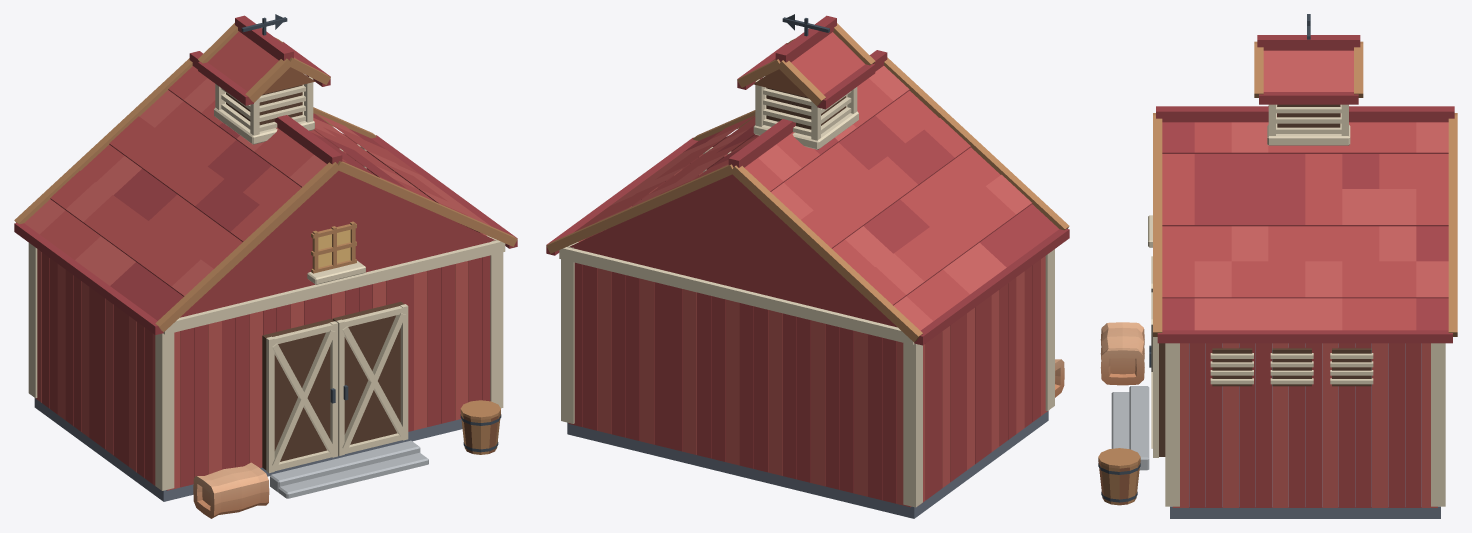
Rendered from barn_big.glb.
The picture shows the model from 3 angles, left to right: view 1: azimuth 30°, elevation 25°; view 2: azimuth 150°, elevation 25°; view 3: azimuth 270°, elevation 25°; orthographic projection. The views are drawn at different scales.
Visible parts, largest first — view 1: barn_big_建筑共用调色板.006, barn_big_graveyard-kit 调色板; view 2: barn_big_建筑共用调色板.006; view 3: barn_big_建筑共用调色板.006, barn_big_graveyard-kit 调色板.
Part boxes in pixels (x1,y1,x2,y2): barn_big_建筑共用调色板.006: [14, 14, 517, 501]; barn_big_graveyard-kit 调色板: [193, 462, 269, 518]; barn_big_建筑共用调色板.006: [546, 14, 1069, 518]; barn_big_建筑共用调色板.006: [1098, 14, 1457, 518]; barn_big_graveyard-kit 调色板: [1100, 322, 1144, 385].
Size of the model in its own units: 6.6 by 6.9 by 5.42.
2 materials, 2 textured.
